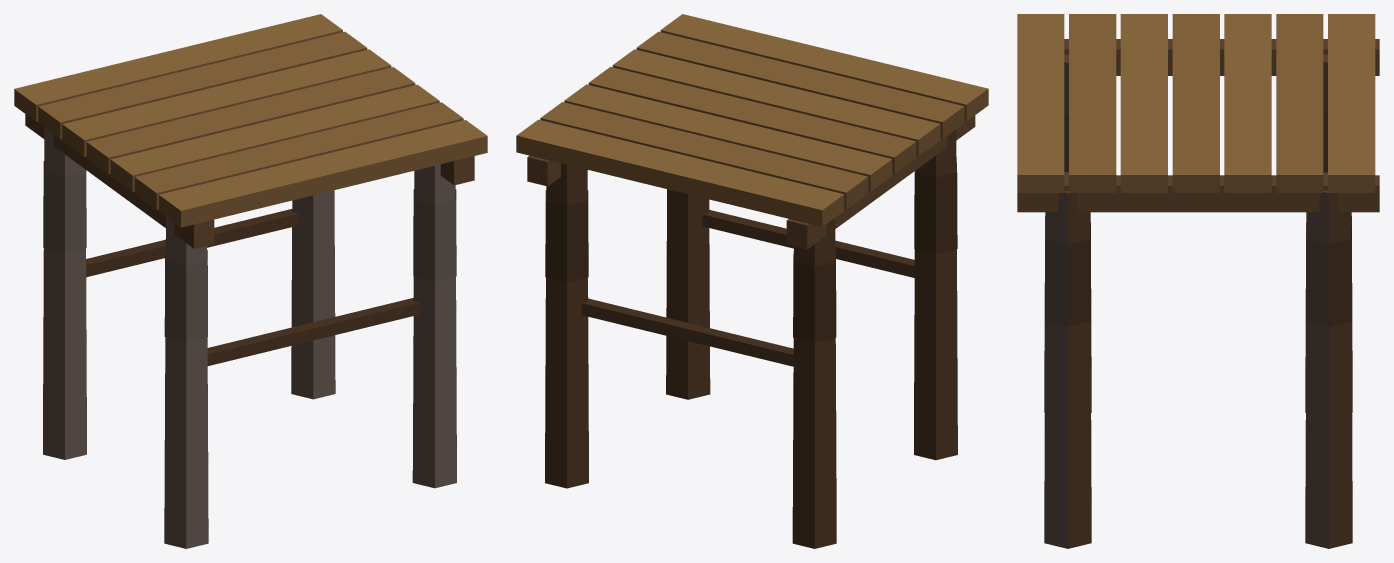
File: pier_straight.glb
The picture shows the model from 3 angles, left to right: view 1: azimuth 30°, elevation 25°; view 2: azimuth 150°, elevation 25°; view 3: azimuth 270°, elevation 25°; orthographic projection. The views are drawn at different scales.
Parts seen in each view (by area): view 1: pier_straight; view 2: pier_straight; view 3: pier_straight.
Part boxes in pixels (<box>): pier_straight: <box>14,14,487,548</box>; pier_straight: <box>516,14,988,548</box>; pier_straight: <box>1017,14,1379,548</box>.
Bounding box in the file's own units: 2.1 × 2.3 × 2.
